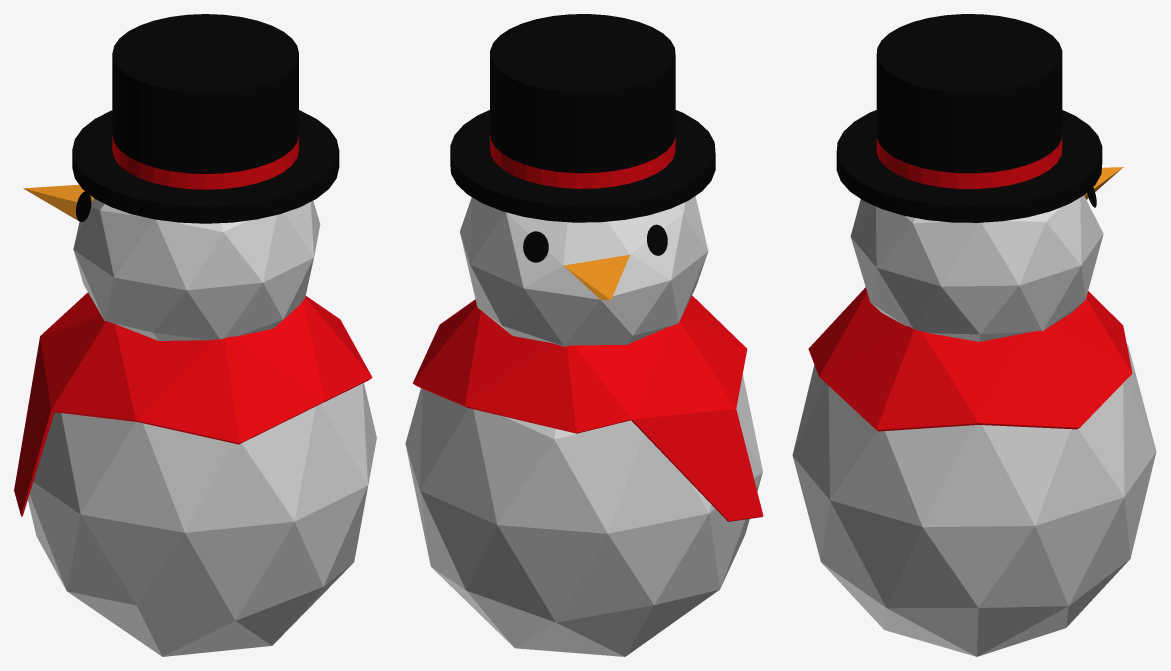
Rendered from snowPenguin.glb.
3 views of the same model, side by side, from view 1: azimuth 30°, elevation 25°; view 2: azimuth 150°, elevation 25°; view 3: azimuth 270°, elevation 25° (orthographic).
Parts seen in each view (by area): view 1: Icosphere.008, Circle, Icosphere.003, Icosphere.009; view 2: Icosphere.008, Circle, Icosphere.003, Icosphere.009, Icosphere.010; view 3: Icosphere.008, Circle, Icosphere.003, Icosphere.009.
Boxes of the visible parts, box(x1,y1,x2,y2) form: Icosphere.008: box(28, 383, 376, 656); Circle: box(72, 14, 339, 223); Icosphere.003: box(14, 292, 372, 516); Icosphere.009: box(23, 184, 320, 340); Icosphere.008: box(405, 374, 762, 656); Circle: box(450, 14, 715, 222); Icosphere.003: box(412, 295, 763, 521); Icosphere.009: box(460, 196, 708, 346); Icosphere.010: box(523, 224, 667, 262); Icosphere.008: box(792, 344, 1156, 656); Circle: box(836, 14, 1102, 222); Icosphere.003: box(808, 287, 1132, 431); Icosphere.009: box(850, 167, 1123, 341).
Size of the model in its own units: 17.14 by 29.5 by 16.39.
